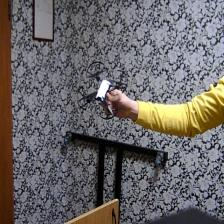drone: (74, 56, 129, 124)
